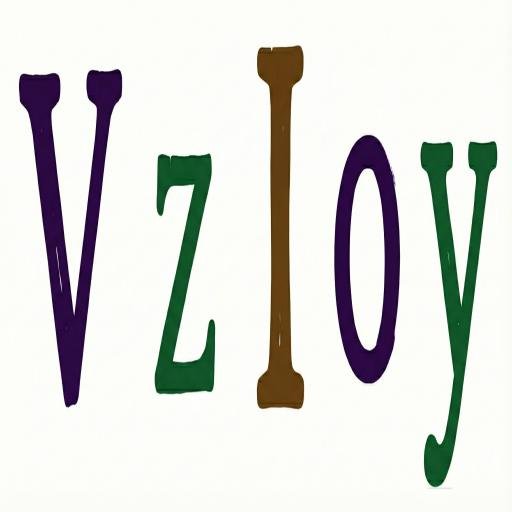I: (252, 34, 310, 419)
V: (16, 52, 126, 416)
o: (330, 120, 404, 398)
y: (417, 125, 498, 495)
z: (151, 134, 219, 407)
